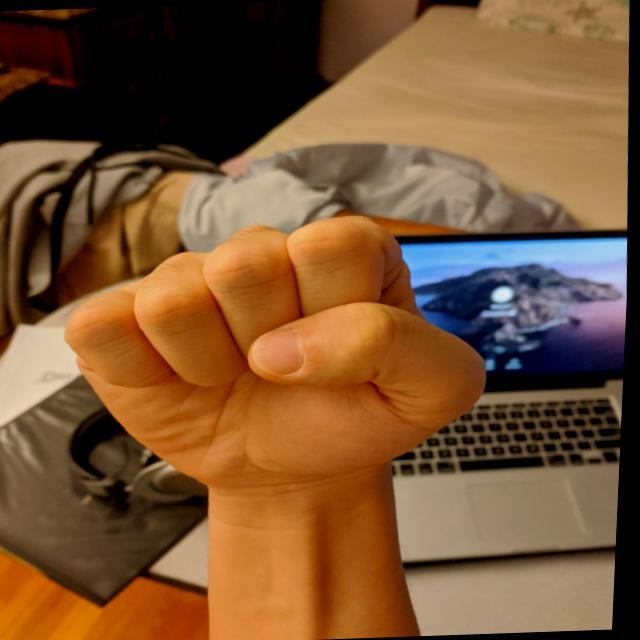S: (48, 200, 510, 503)
